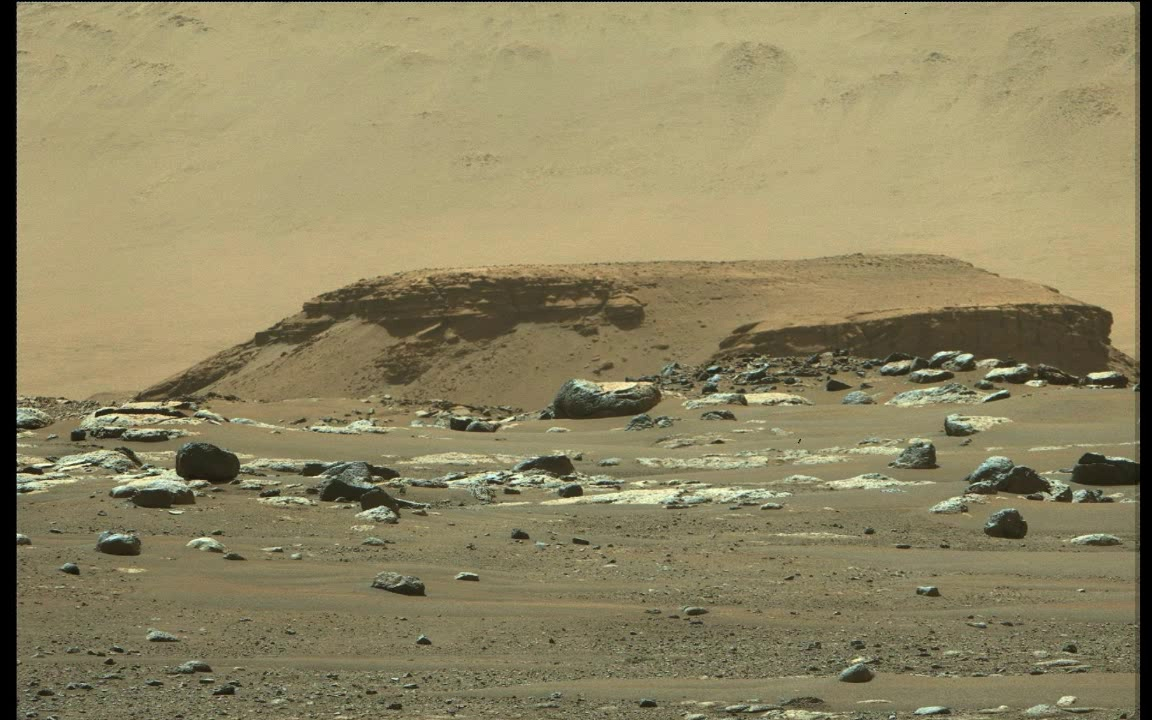rock: (1017, 692, 1105, 720)
